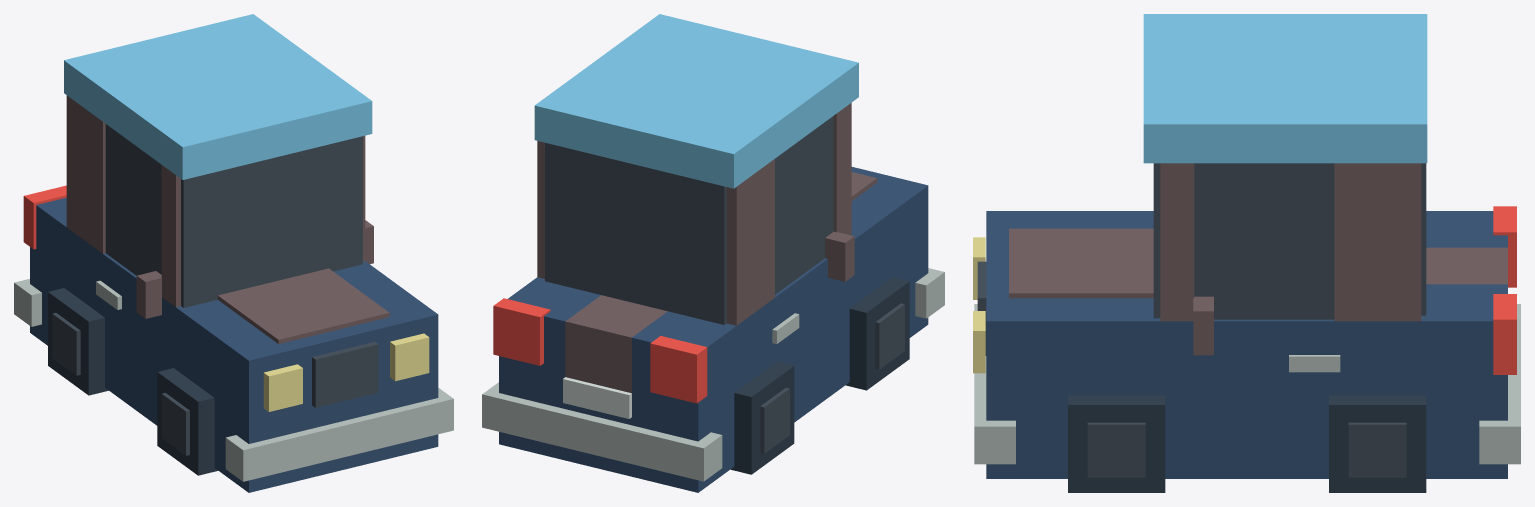
Rendered from Car_Blue.fbx.
The picture shows the model from 3 angles, left to right: view 1: azimuth 30°, elevation 25°; view 2: azimuth 150°, elevation 25°; view 3: azimuth 270°, elevation 25°; orthographic projection. The views are drawn at different scales.
Parts seen in each view (by area): view 1: polySurface99; view 2: polySurface99; view 3: polySurface99.
Boxes of the visible parts, <box> form: polySurface99: <box>14,14,453,492</box>; polySurface99: <box>482,14,944,492</box>; polySurface99: <box>973,14,1520,492</box>.
Size of the model in its own units: 3.68 by 4.56 by 6.3.
